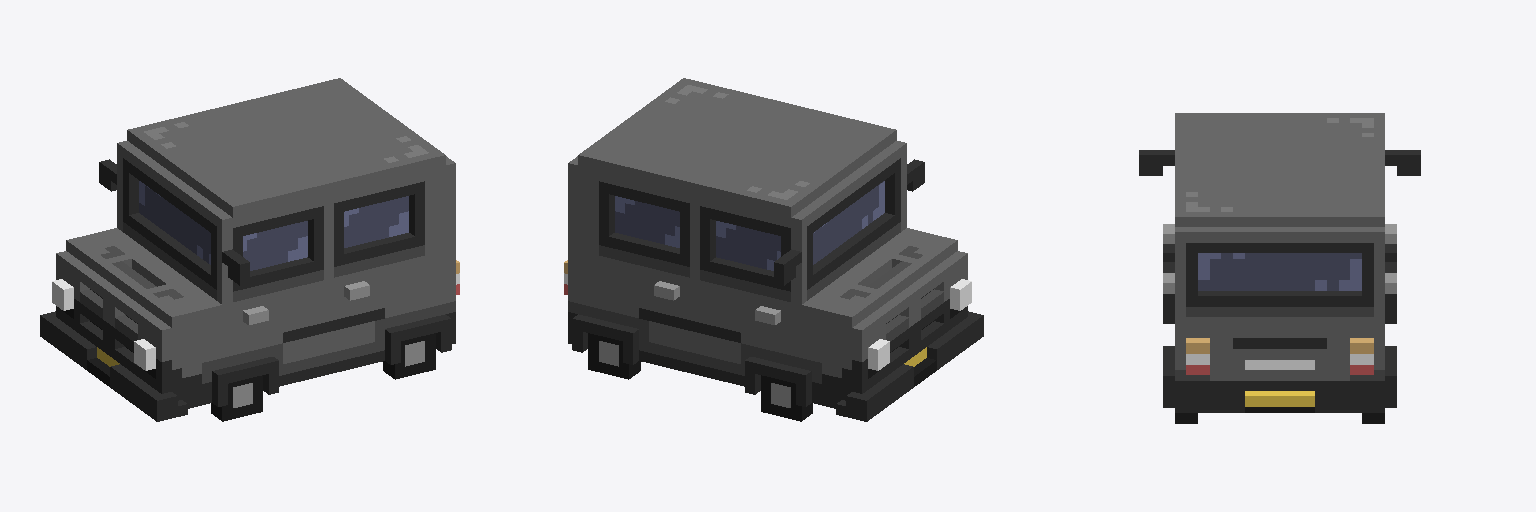
The picture shows the model from 3 angles: view 1: azimuth 30°, elevation 25°; view 2: azimuth 150°, elevation 25°; view 3: azimuth 270°, elevation 25°; orthographic projection.
Visible parts, largest first — view 1: Box_90; view 2: Box_90; view 3: Box_90.
Part boxes in pixels (x1,y1,x2,y2): Box_90: (40,78,459,421); Box_90: (564,78,983,421); Box_90: (1139,113,1420,423).
Size of the model in its own units: 31 by 20 by 24.
1 materials, 1 textured.